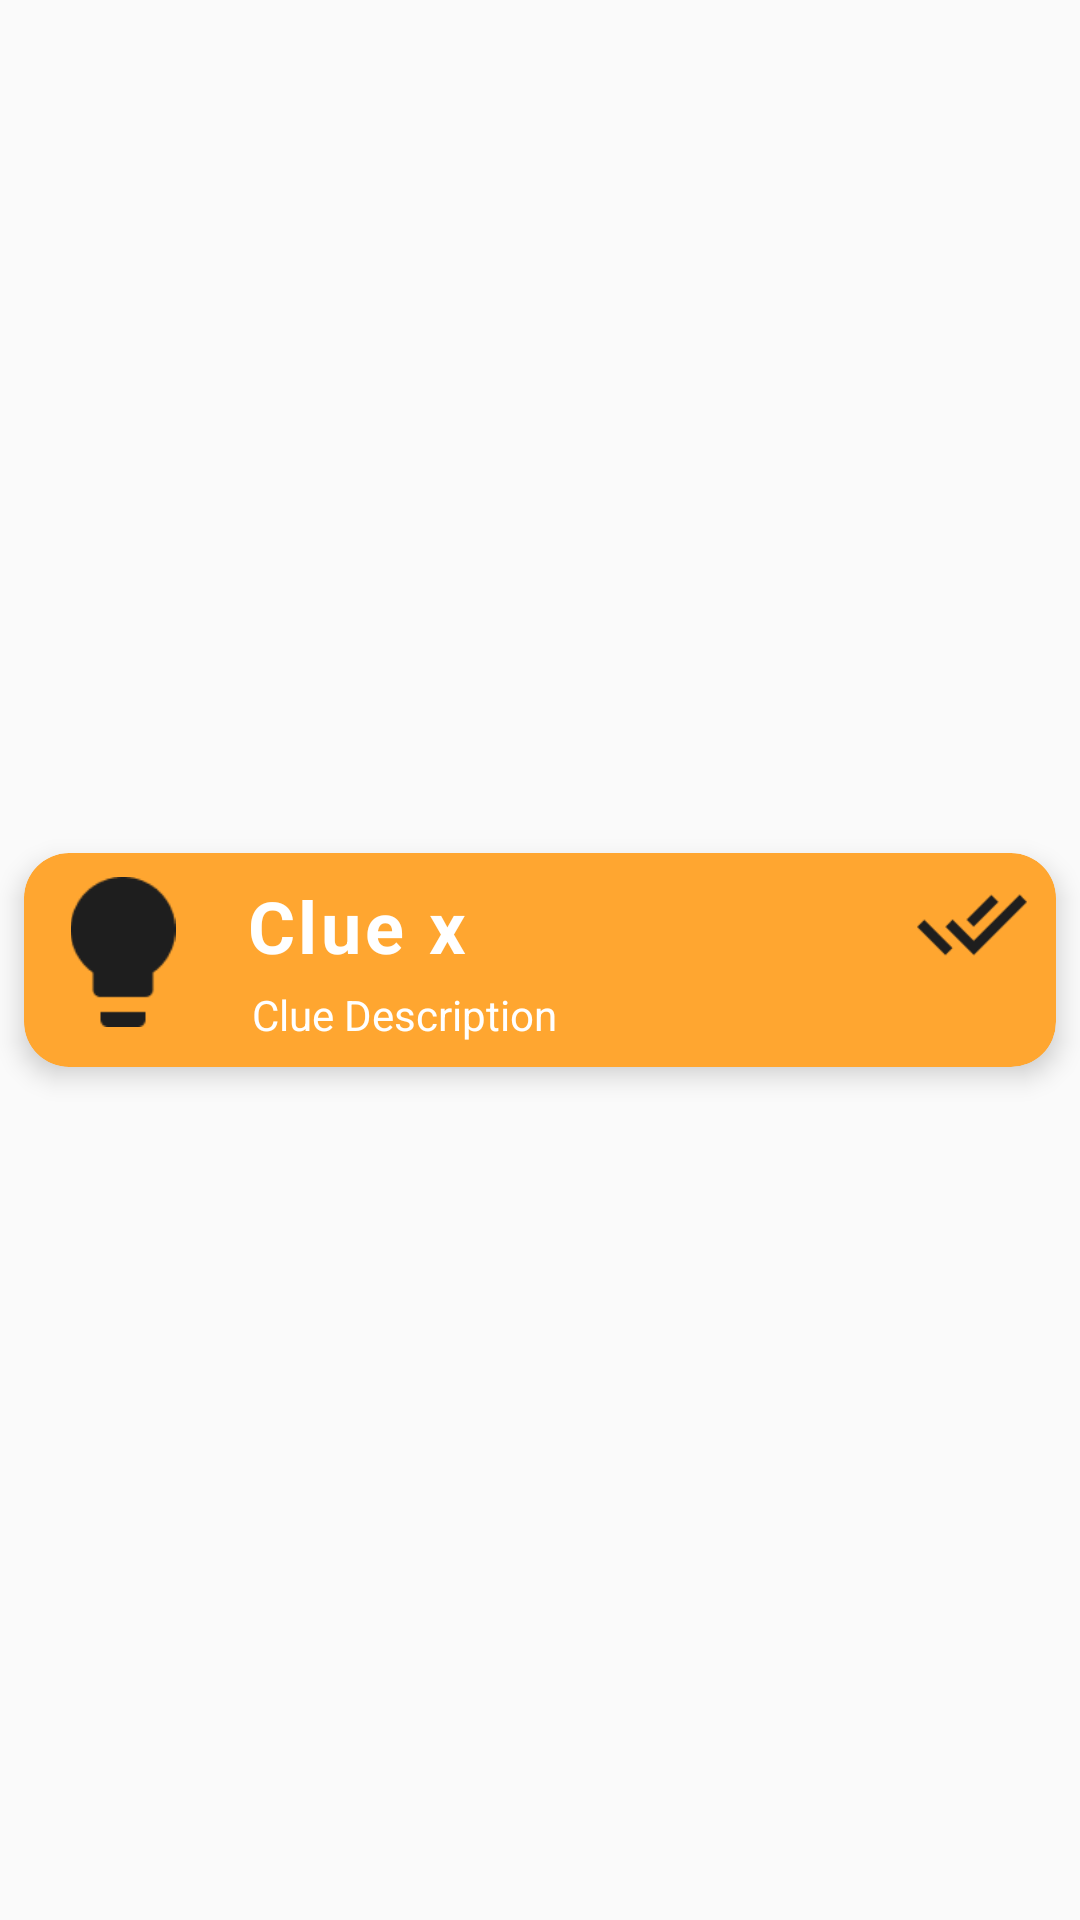

Named icons in this screenshot (1080px x 1920px) and their centers, (x=x, y=y):
done all: (x=972, y=924)
lightbulb: (x=123, y=952)
